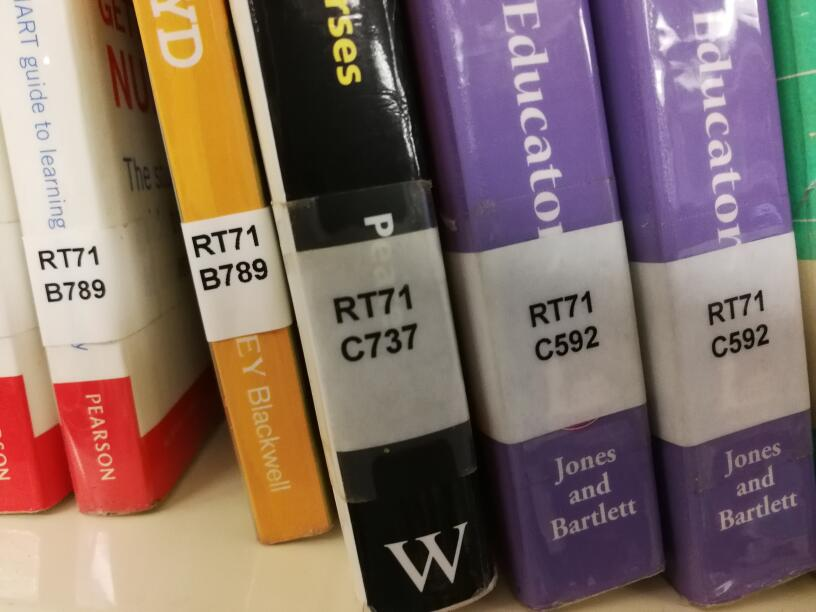booklabel: (328, 281, 422, 363), (524, 286, 603, 362), (186, 223, 268, 293), (703, 286, 773, 359), (33, 243, 109, 305)
